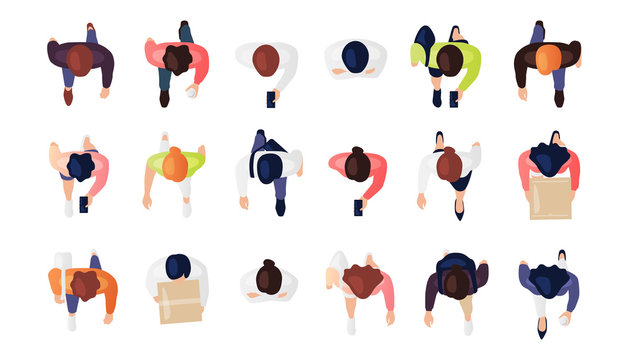person: (511, 16, 586, 113), (137, 129, 212, 223), (323, 248, 398, 338), (235, 127, 307, 220), (408, 22, 483, 111), (415, 130, 483, 222), (517, 129, 582, 222), (144, 19, 210, 109), (47, 21, 115, 108), (424, 251, 491, 338), (47, 248, 119, 328), (45, 134, 110, 221), (520, 249, 580, 341), (144, 252, 212, 327), (233, 39, 302, 111), (327, 145, 389, 219), (323, 36, 391, 81), (241, 257, 299, 305)
